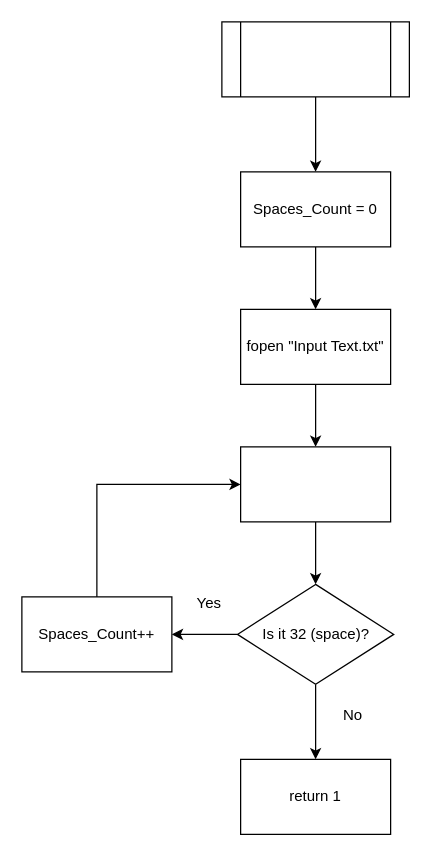
Image size: 431x856. Some labels were removed from this diagram. The shapes that lost their labels are listed below. From the top down, each one's centre as x and y in pixels, then its label:
(315,59): InitialSpacesCount
(315,484): Read letter as integer
